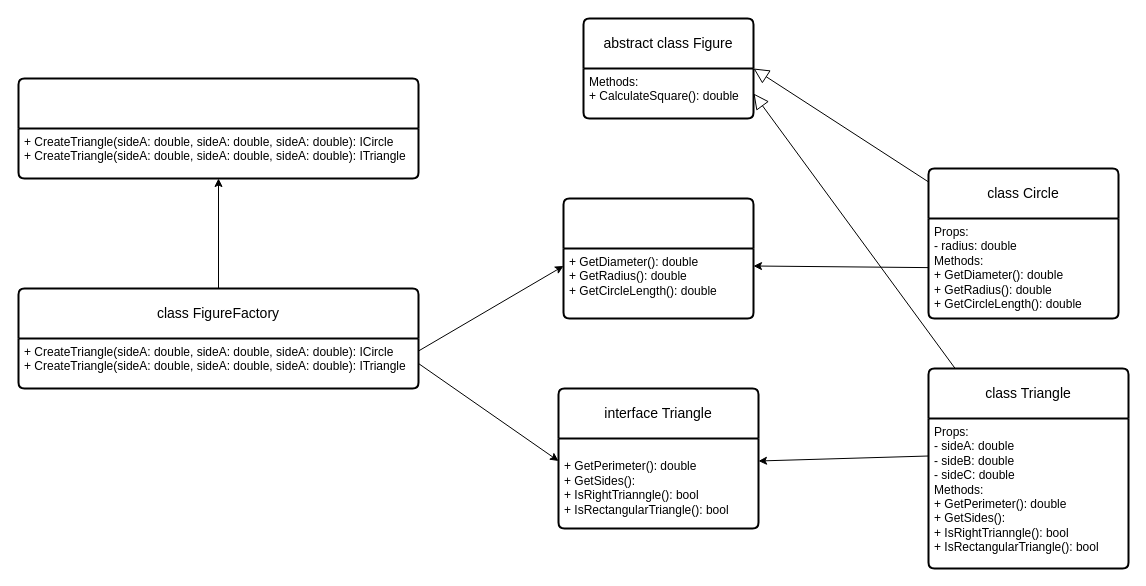
The diagram is 1146 pixels wide and 586 high, and some of its shapes have lost their labels. Here are the shapes that lost their labels. From the top down, the box of each, then its label:
(17, 77, 419, 179): interface IFigureFactory
(562, 197, 754, 319): Interface Circle
